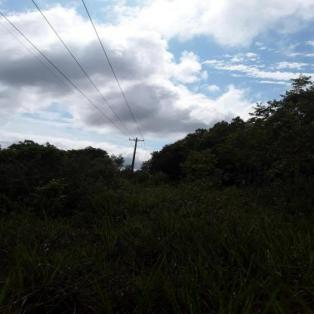Poste: (129, 138, 138, 171)
